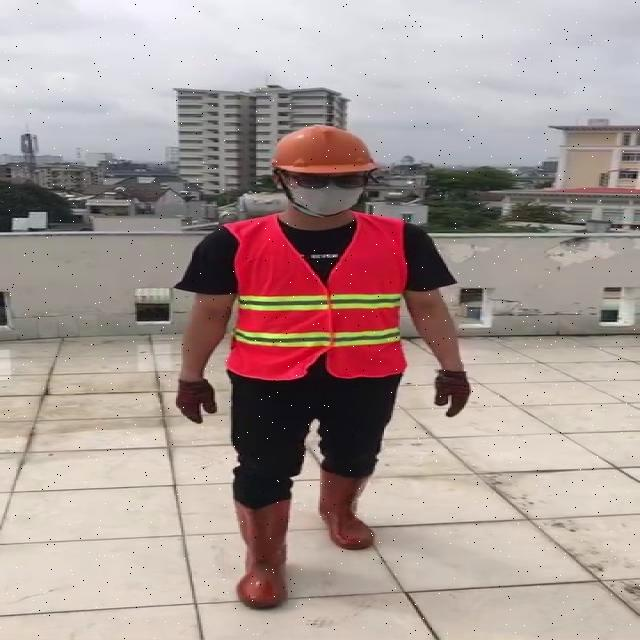Hard_hat: (264, 124, 381, 185)
Person: (165, 89, 482, 633)
Vest: (226, 212, 407, 379)
